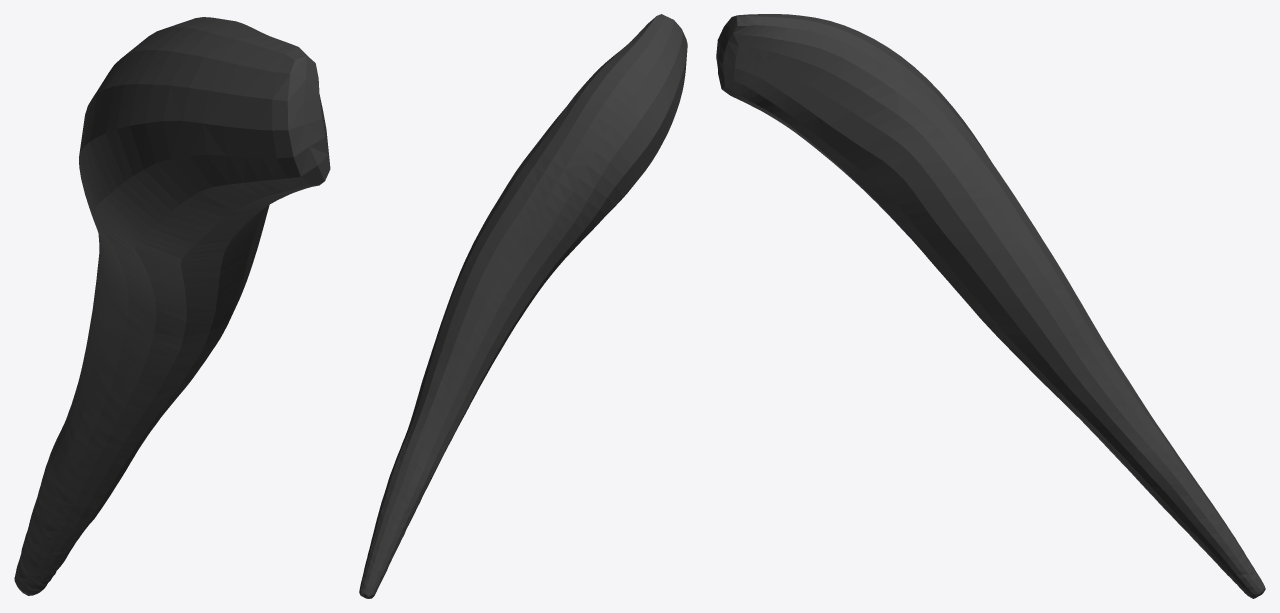
File: Gastrocnemius2.glb
3 renders of one model, left to right at view 1: azimuth 30°, elevation 25°; view 2: azimuth 150°, elevation 25°; view 3: azimuth 270°, elevation 25°, orthographic. The views are drawn at different scales.
Parts seen in each view (by area): view 1: Gastrocnemius2; view 2: Gastrocnemius2; view 3: Gastrocnemius2.
Boxes of the visible parts, x1,y1,x2,y2 form: Gastrocnemius2: (14,17,330,595); Gastrocnemius2: (359,14,687,598); Gastrocnemius2: (716,14,1265,598).
Size of the model in its own units: 19.06 by 59.13 by 54.88.
Materials: 1 (1 with a texture image).
